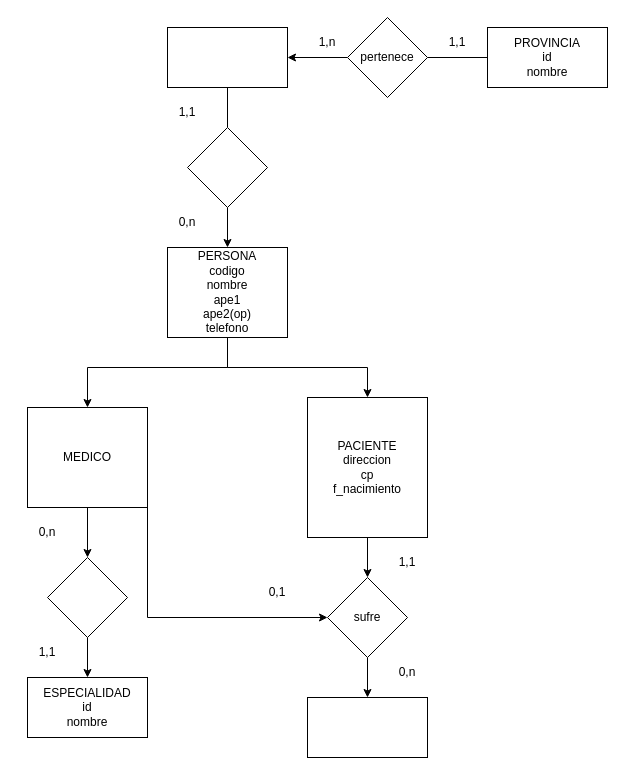
This 625x775 diagram has some shape labels left out. The shapes that lost their labels are listed below. From the top down, each one's box as (x1, y1, x2, y2) in pixels, then its label:
(166, 26, 288, 88): POBLACION id nombre
(186, 126, 268, 208): vive
(46, 556, 128, 638): tiene
(306, 696, 428, 758): INGRESO codigo_ingreso n_habitacion cama
